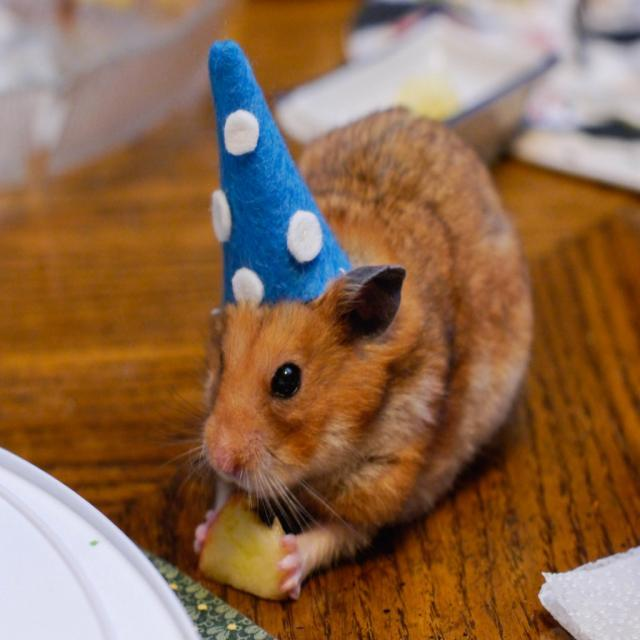rat: (170, 128, 536, 599)
